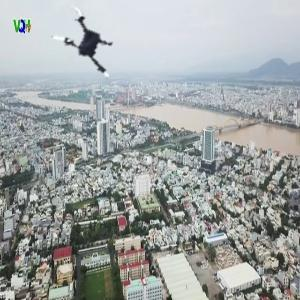drone: (40, 3, 125, 88)
